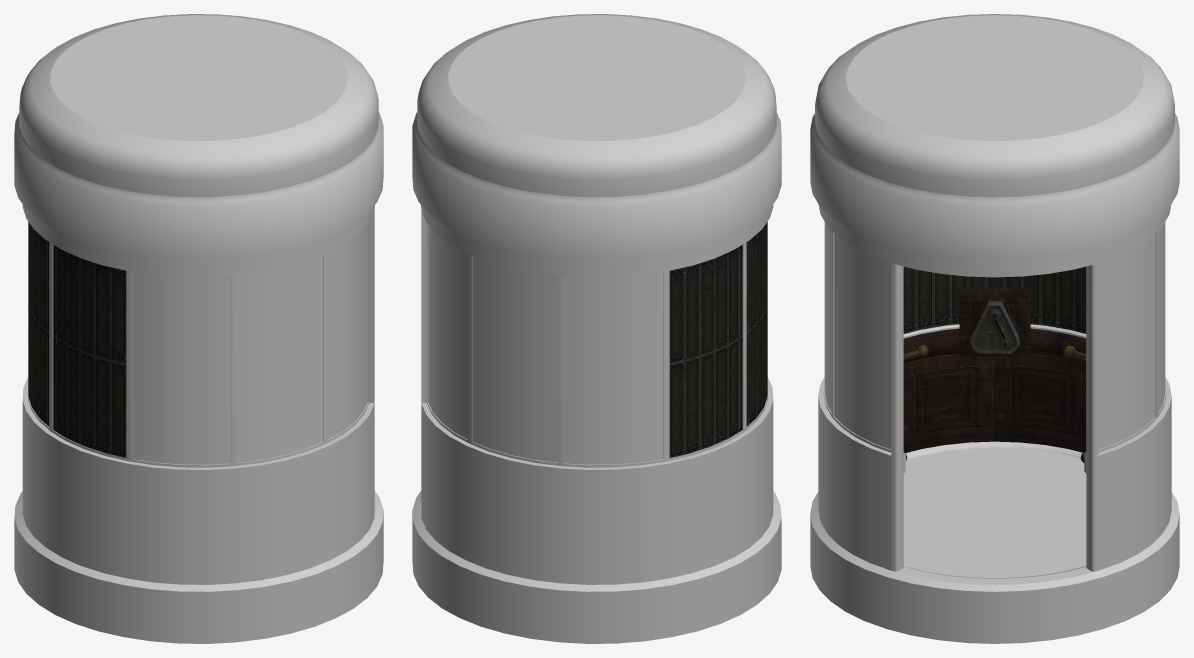
The model's file is elevator_pod.dae.
3 views of the same model, side by side, from view 1: azimuth 30°, elevation 25°; view 2: azimuth 150°, elevation 25°; view 3: azimuth 270°, elevation 25° (orthographic).
Visible parts, largest first — view 1: polySurface272, elevator_bars_transparent, elevator_metalcaps, elevator_bars; view 2: polySurface272, elevator_bars_transparent, elevator_metalcaps, elevator_bars; view 3: polySurface272, elevator_metalcaps, elevator_bars_transparent, elevator_floor, elevator_wood, elevator_bars, elevator_switch.
Part boxes in pixels (bbox=[...]): polySurface272: bbox=[14, 14, 383, 643]; elevator_bars_transparent: bbox=[133, 225, 367, 464]; elevator_metalcaps: bbox=[50, 15, 347, 140]; elevator_bars: bbox=[28, 222, 126, 457]; polySurface272: bbox=[412, 14, 781, 643]; elevator_bars_transparent: bbox=[428, 225, 662, 464]; elevator_metalcaps: bbox=[448, 15, 745, 140]; elevator_bars: bbox=[669, 222, 767, 457]; polySurface272: bbox=[810, 14, 1179, 643]; elevator_metalcaps: bbox=[846, 15, 1143, 141]; elevator_bars_transparent: bbox=[824, 222, 1165, 449]; elevator_floor: bbox=[903, 447, 1086, 578]; elevator_wood: bbox=[903, 288, 1086, 452]; elevator_bars: bbox=[903, 266, 1086, 333]; elevator_switch: bbox=[964, 294, 1024, 353].
Bounding box in the file's own units: 324 × 475 × 324.
